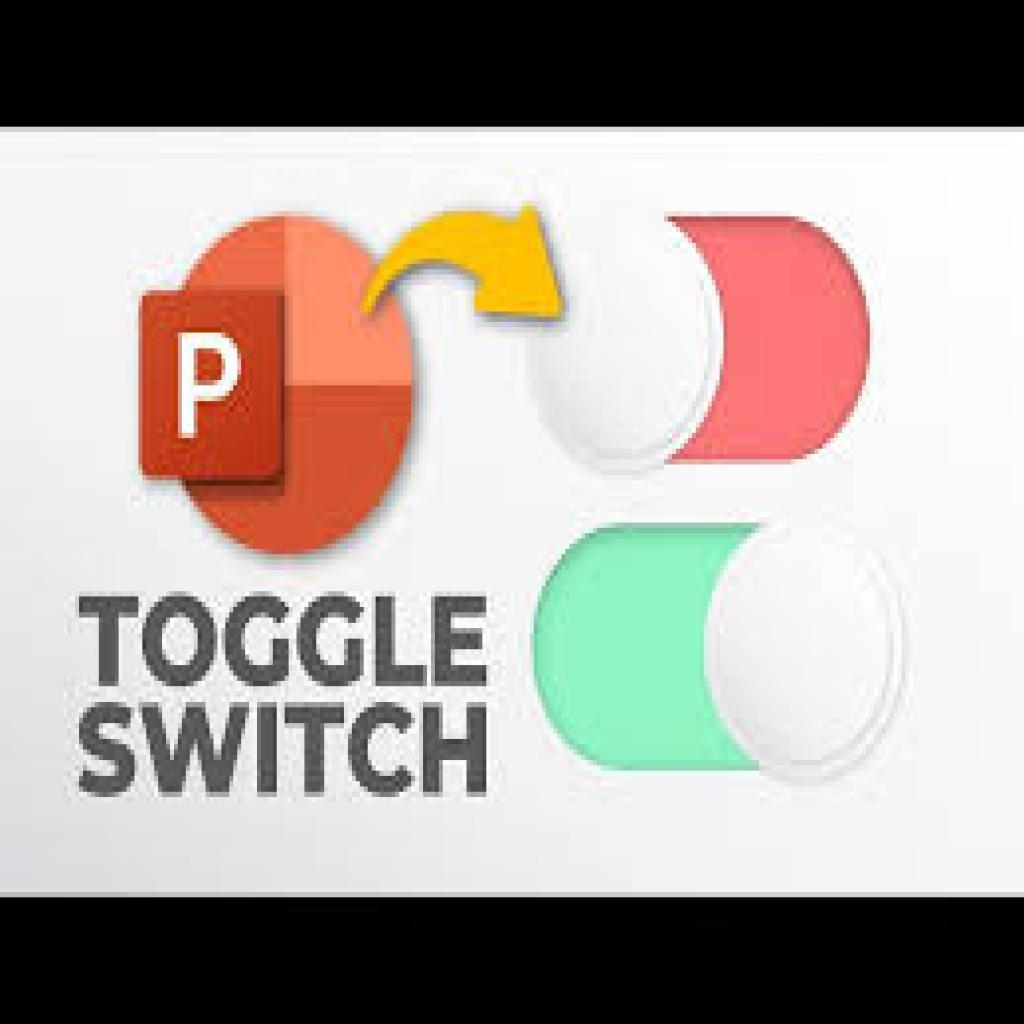switch: (528, 515, 910, 790)
